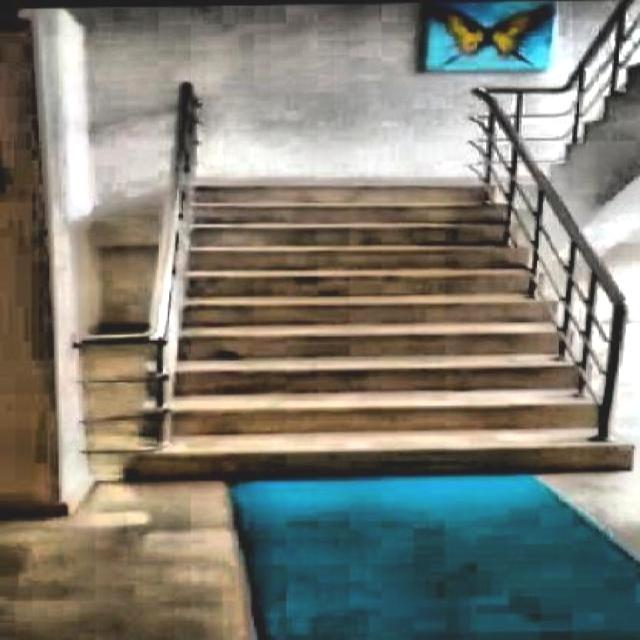stair: (114, 174, 638, 486)
